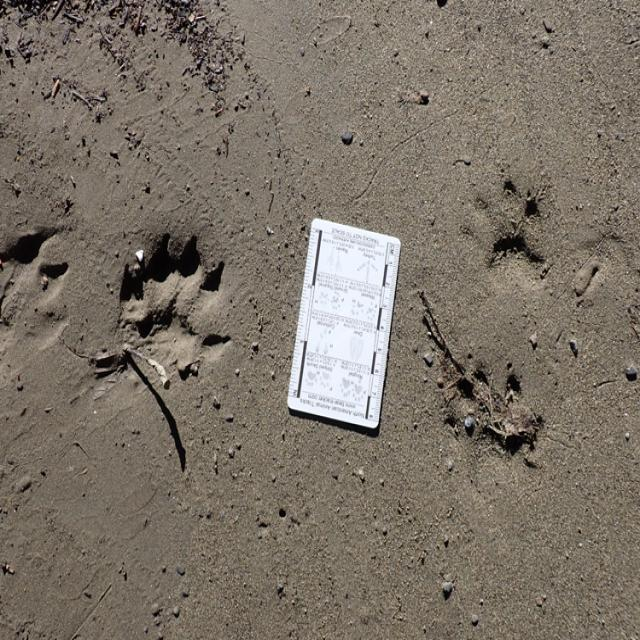mustelid: (116, 232, 235, 380), (444, 362, 548, 503), (459, 175, 548, 292)
